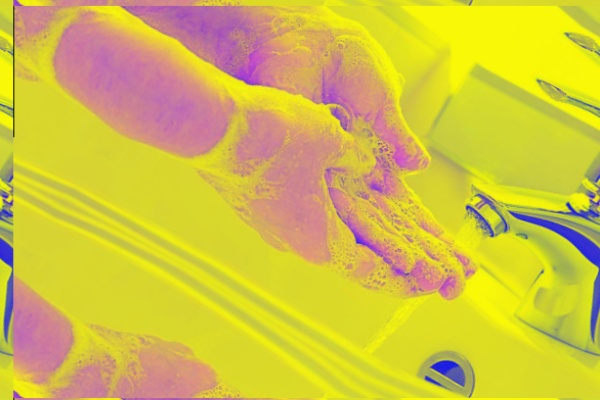washing hand: (138, 0, 599, 399)
